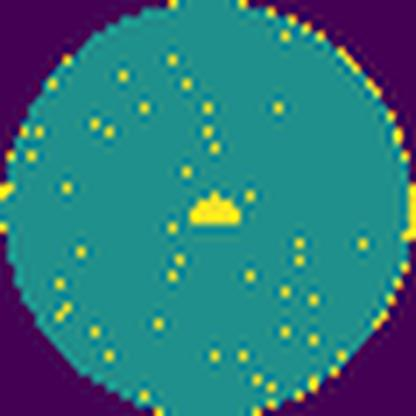Center: (187, 190, 245, 226)
